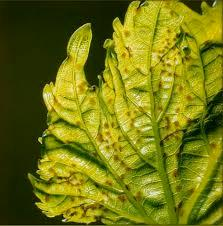Bok-Choy-Diseased: (68, 68, 223, 215)
